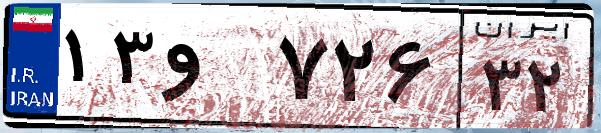1: (57, 26, 110, 100)
2: (330, 28, 385, 110), (525, 38, 570, 115)
3: (475, 38, 525, 113), (110, 28, 158, 98)
6: (385, 28, 445, 110)
7: (270, 28, 330, 110)
و: (158, 20, 270, 120)
